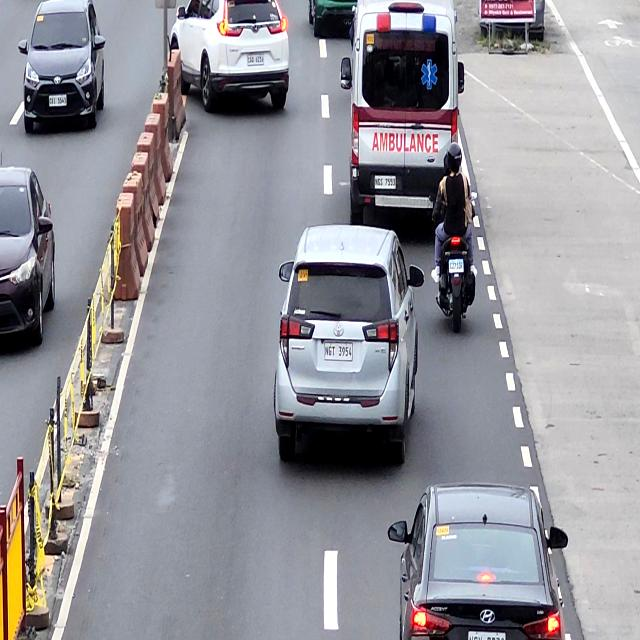Car: (272, 223, 425, 464), (340, 0, 464, 230), (388, 484, 569, 640), (171, 0, 290, 113)
License-Plate: (324, 342, 353, 360), (374, 174, 395, 188), (448, 260, 465, 274), (248, 55, 266, 66)
Motorcycle: (432, 186, 480, 327)
